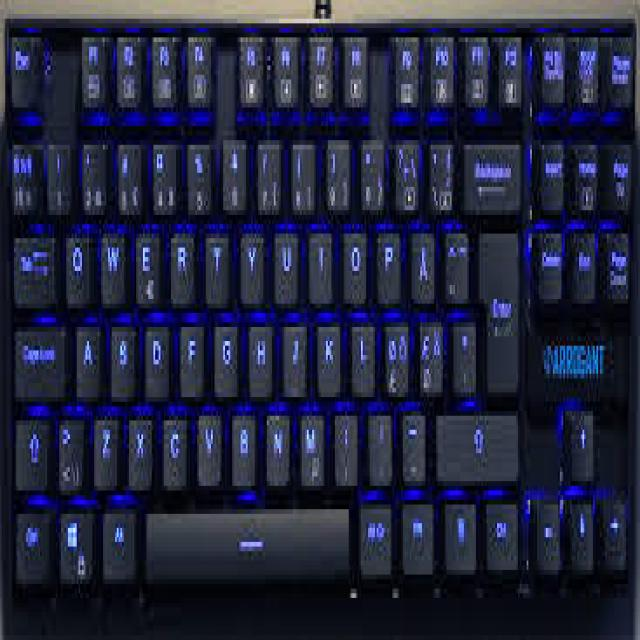keyboard: (3, 14, 631, 606)
